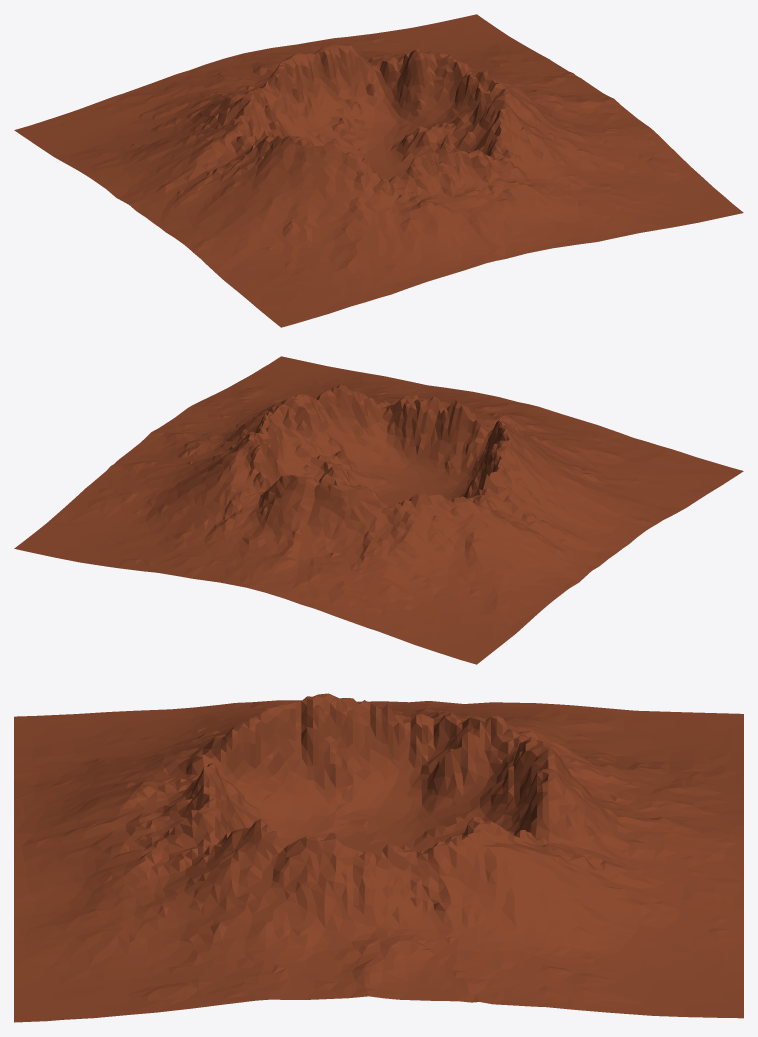
File: crater_martian_red.dae
3 renders of one model, top to bottom at view 1: azimuth 30°, elevation 25°; view 2: azimuth 150°, elevation 25°; view 3: azimuth 270°, elevation 25°, orthographic. The views are drawn at different scales.
Parts seen in each view (by area): view 1: Crater4K; view 2: Crater4K; view 3: Crater4K.
Boxes of the visible parts, x1=… form: Crater4K: x1=14, y1=14, x2=743, y2=327; Crater4K: x1=14, y1=356, x2=743, y2=664; Crater4K: x1=14, y1=693, x2=743, y2=1022.
Size of the model in its own units: 16.17 by 16.17 by 2.62.
